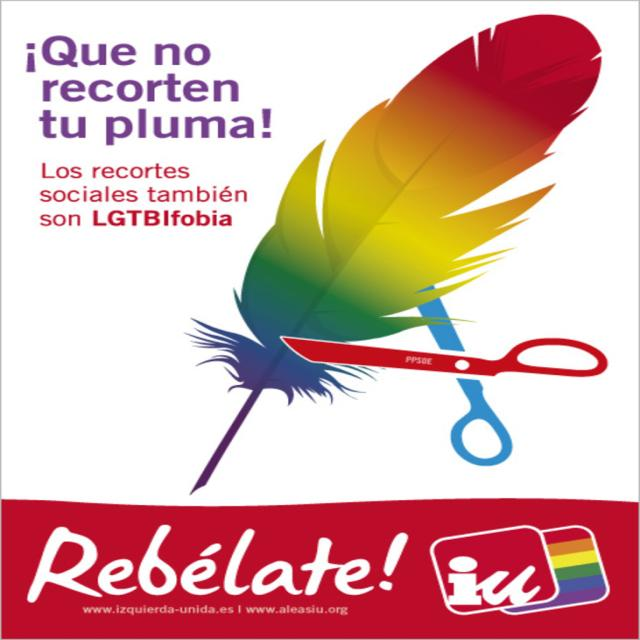scissors: (230, 257, 640, 468)
